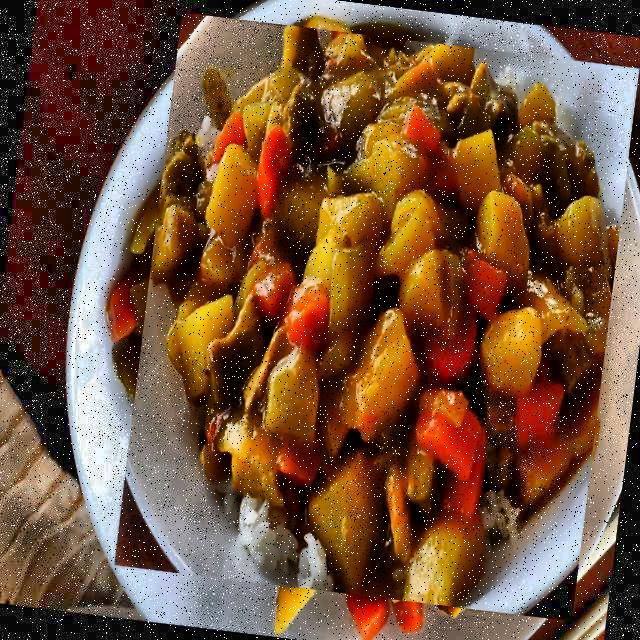Food: (112, 12, 640, 622)
